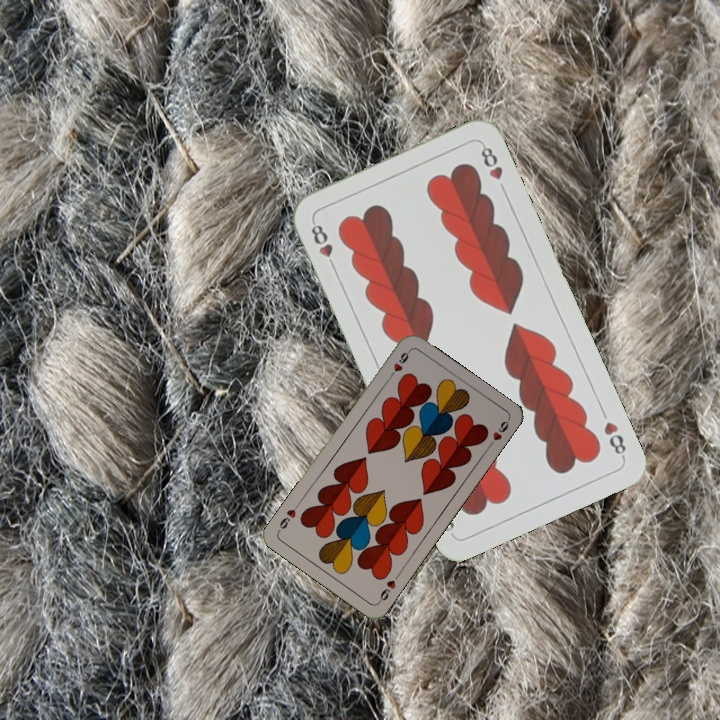H8: (307, 217, 339, 273), (600, 417, 629, 461)
H9: (374, 570, 402, 606), (385, 346, 413, 382)
